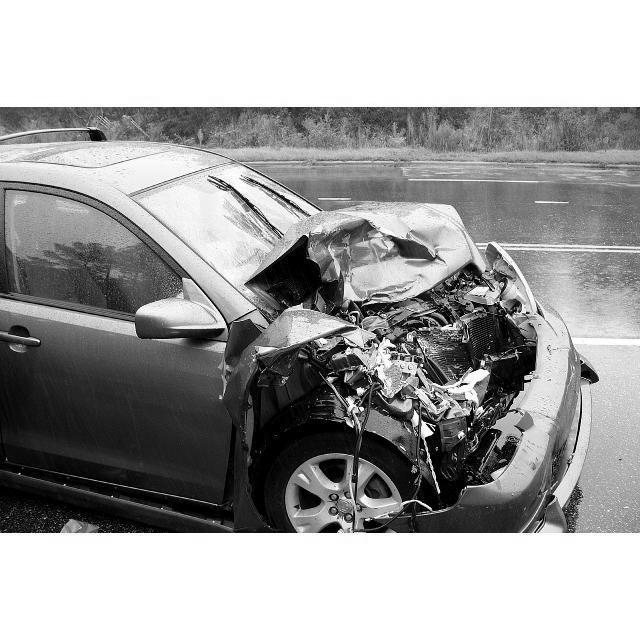bonnet-dent: (278, 207, 505, 323)
fender-dent: (222, 314, 431, 448)
front-bumper-dent: (387, 419, 578, 527)
